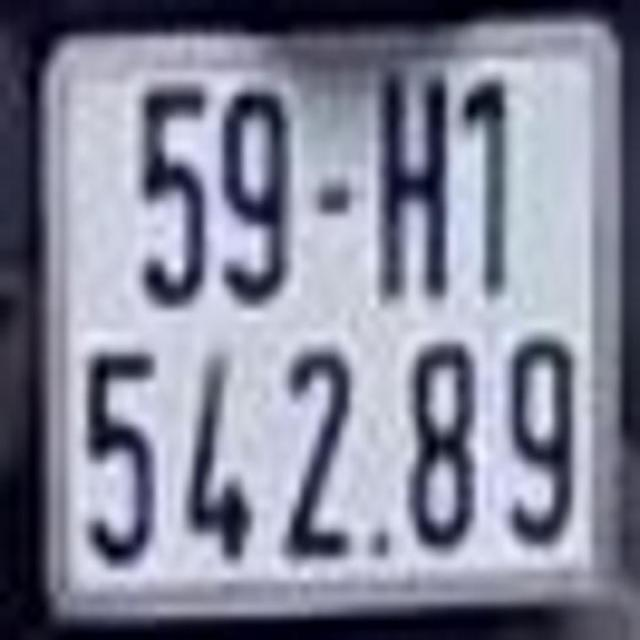1: (462, 76, 513, 298)
2: (290, 351, 346, 552)
4: (186, 366, 249, 566)
5: (87, 353, 156, 560), (144, 88, 207, 310)
8: (414, 342, 474, 548)
9: (218, 92, 283, 306), (512, 336, 573, 541)
H: (376, 70, 449, 300)
